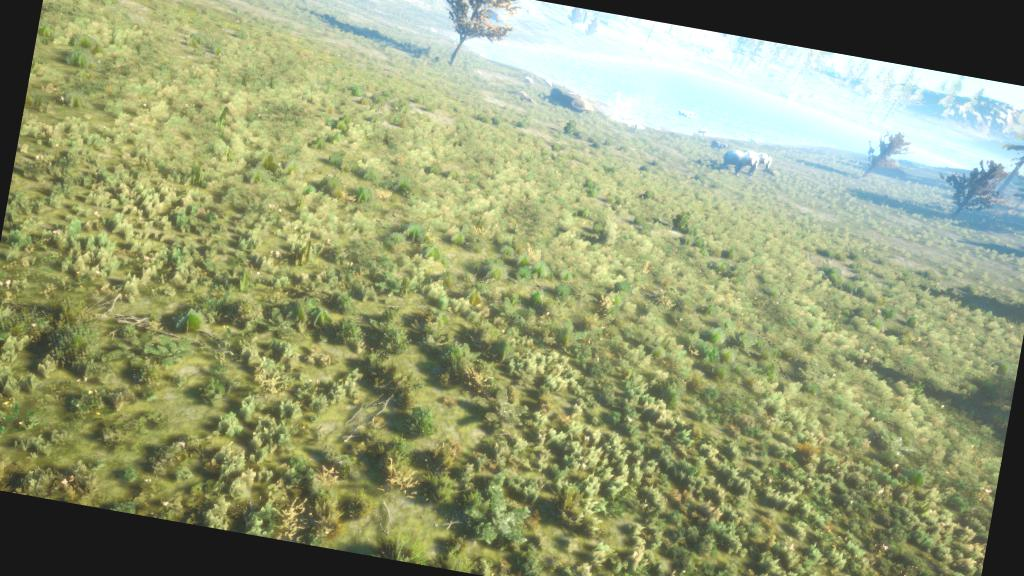elephant: (720, 143, 764, 183)
